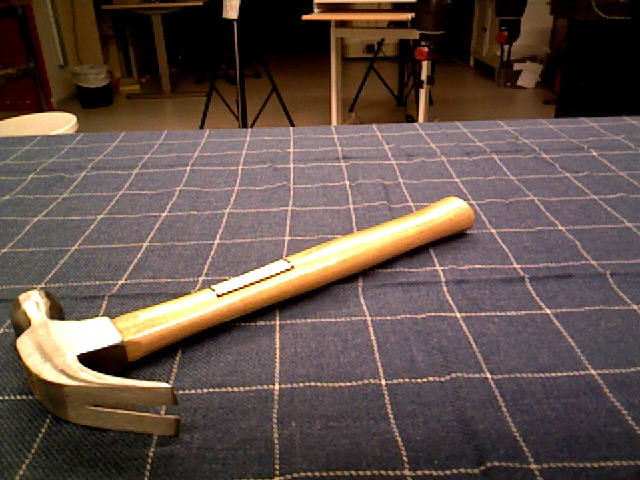hammer1: (10, 195, 476, 440)
